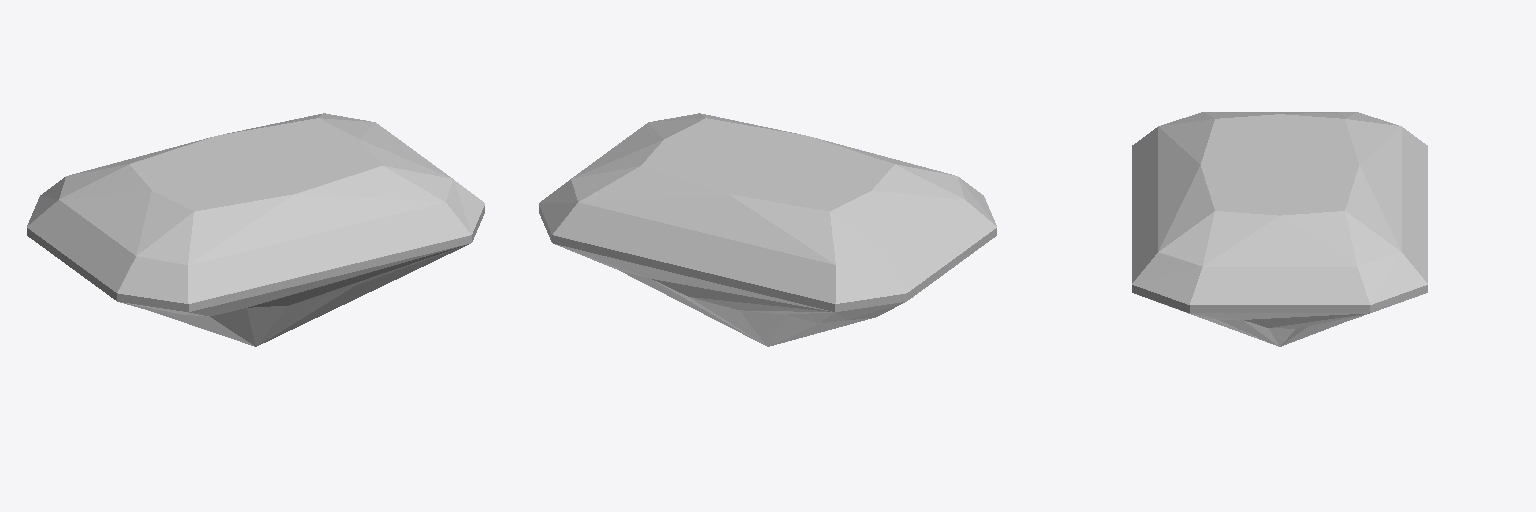
The model's file is Gem5.obj.
3 views of the same model, side by side, from view 1: azimuth 30°, elevation 25°; view 2: azimuth 150°, elevation 25°; view 3: azimuth 270°, elevation 25° (orthographic).
Size of the model in its own units: 0.045 by 0.0212 by 0.0314.